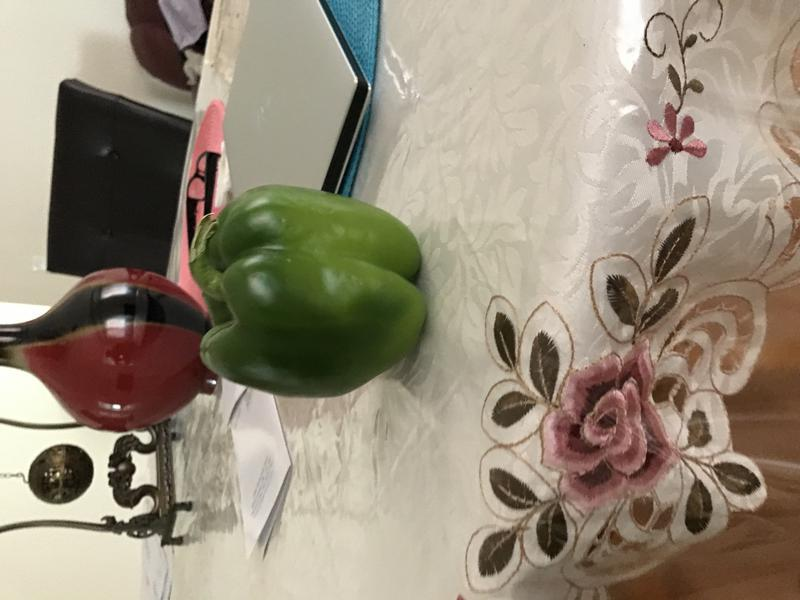green_pepper: (182, 173, 434, 411)
